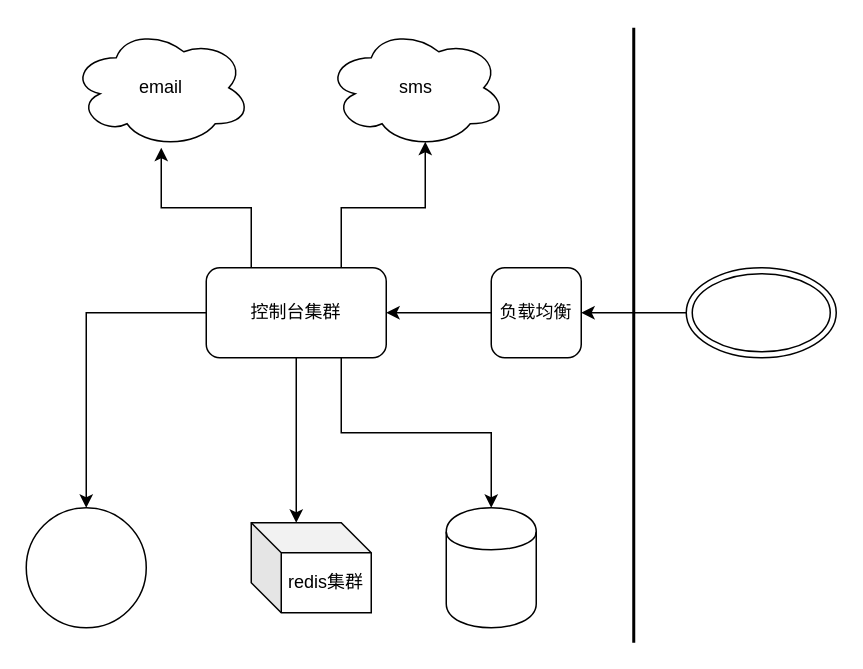
This 863x669 diagram has some shape labels left out. Each missing label, with the centre of its shape:
mysql: point (490, 567)
rabbitmq集群: point (85, 567)
用户: point (760, 312)
